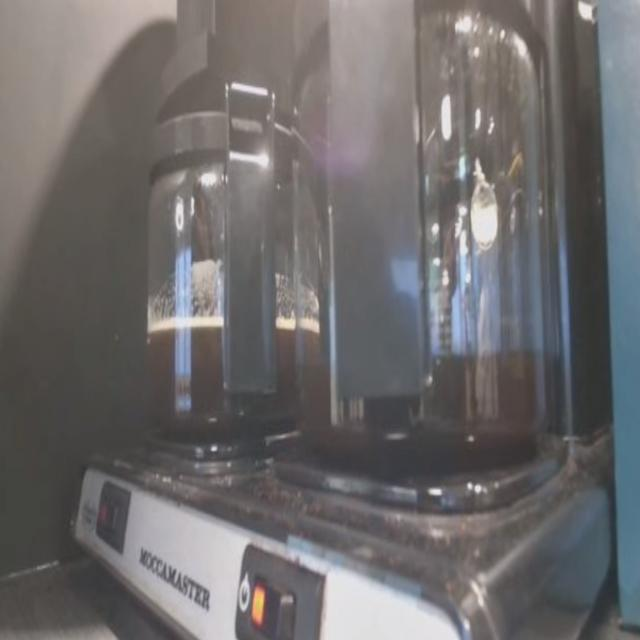coffee: (308, 36, 564, 462), (133, 106, 321, 447)
